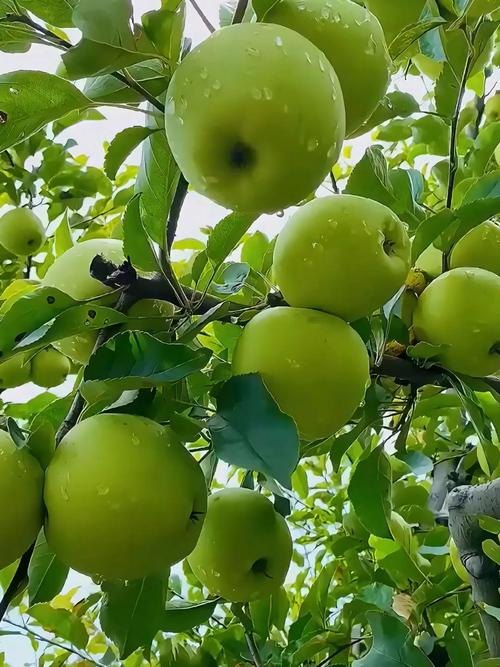unripe: (148, 20, 349, 219), (34, 413, 209, 582), (219, 299, 376, 446), (27, 231, 182, 368), (269, 191, 422, 325), (180, 487, 294, 611), (405, 264, 500, 383), (0, 201, 43, 257)
